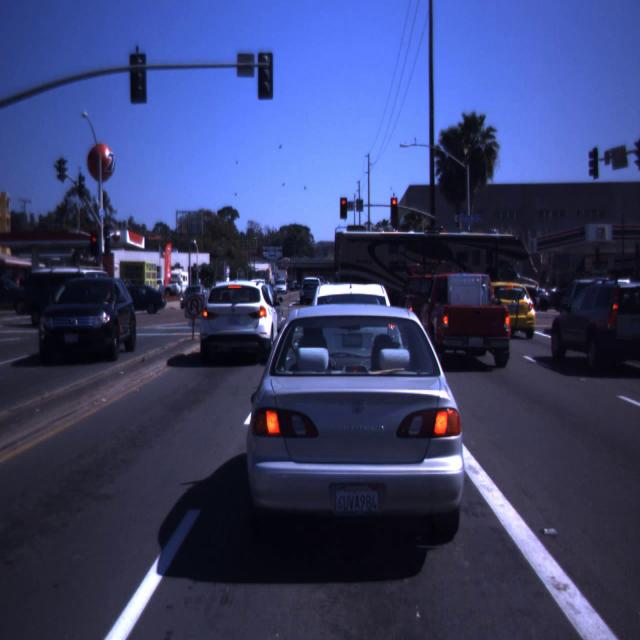stop: (389, 198, 399, 216)
stop left: (87, 234, 101, 258), (337, 197, 351, 217)
stop left traffic light: (87, 234, 101, 258), (337, 197, 351, 217)
stop traffic light: (389, 198, 399, 216)
